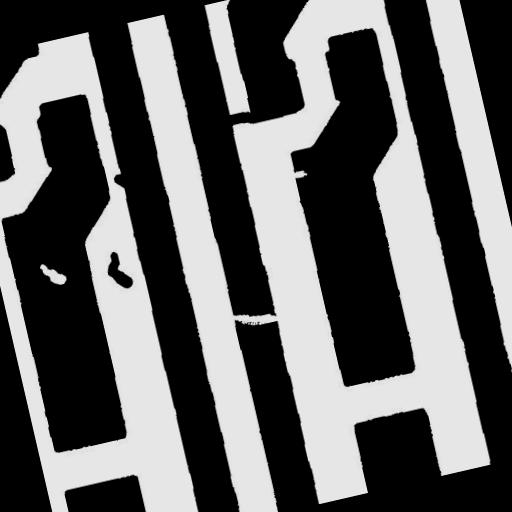copper: (94, 240, 143, 301)
mousebite: (280, 160, 316, 188)
open: (216, 294, 289, 341)
pin-hole: (30, 250, 76, 297)
short: (214, 99, 269, 138)
spur: (104, 164, 138, 198)
